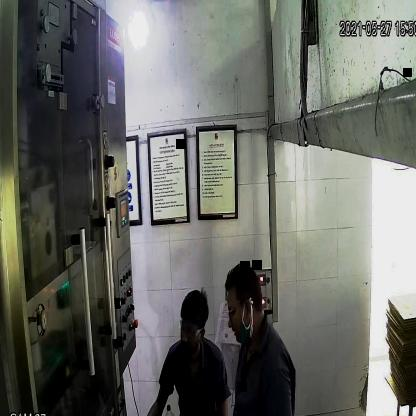goggles: (178, 316, 206, 340)
